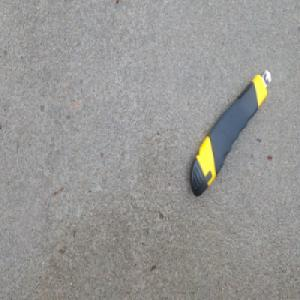Cutter: (189, 69, 272, 199)
